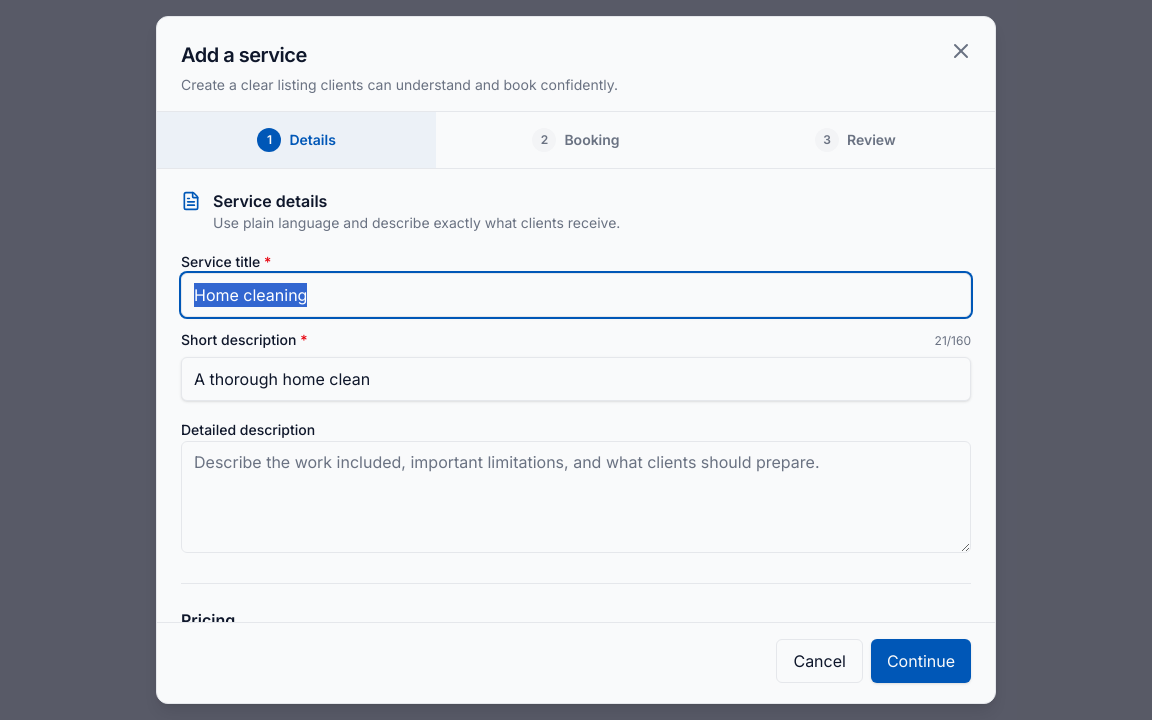
CreateServiceModal › explains the shared one-booking limit without offering per-service capacity
Step 1. Click the button "Continue" → [921, 661], box x1=871 y1=639 x2=971 y2=683
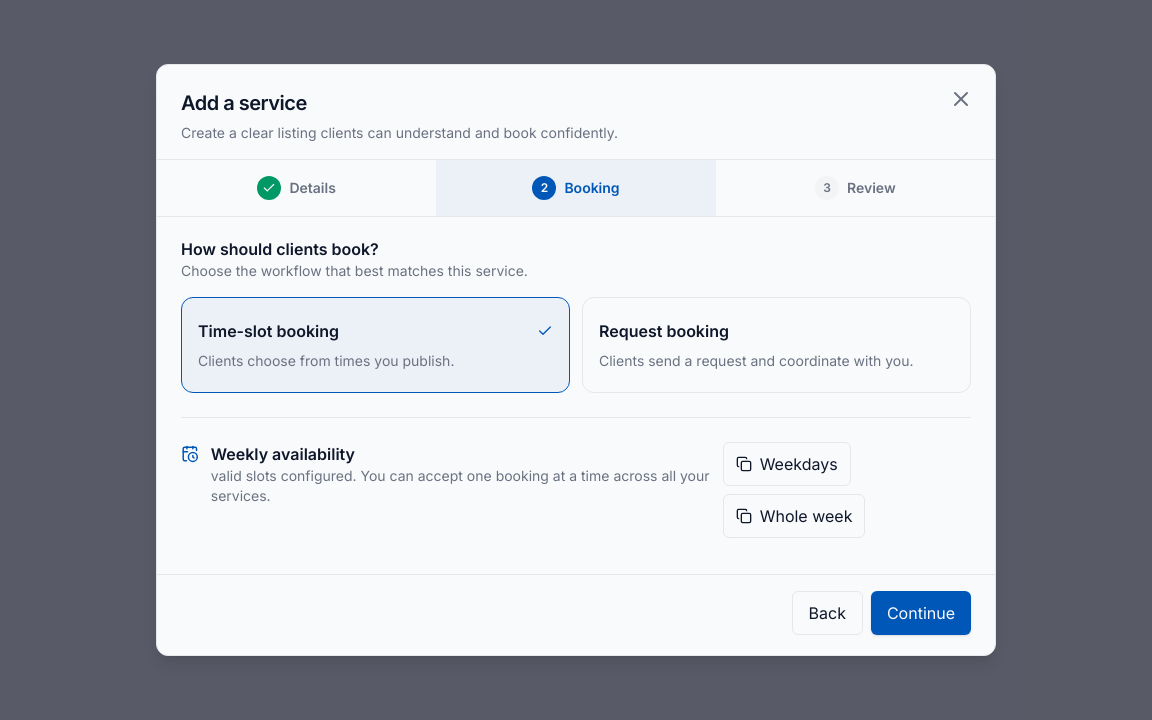
Check: the text "one booking at a time across all your services" is shown, box x1=211 y1=467 x2=710 y2=504
